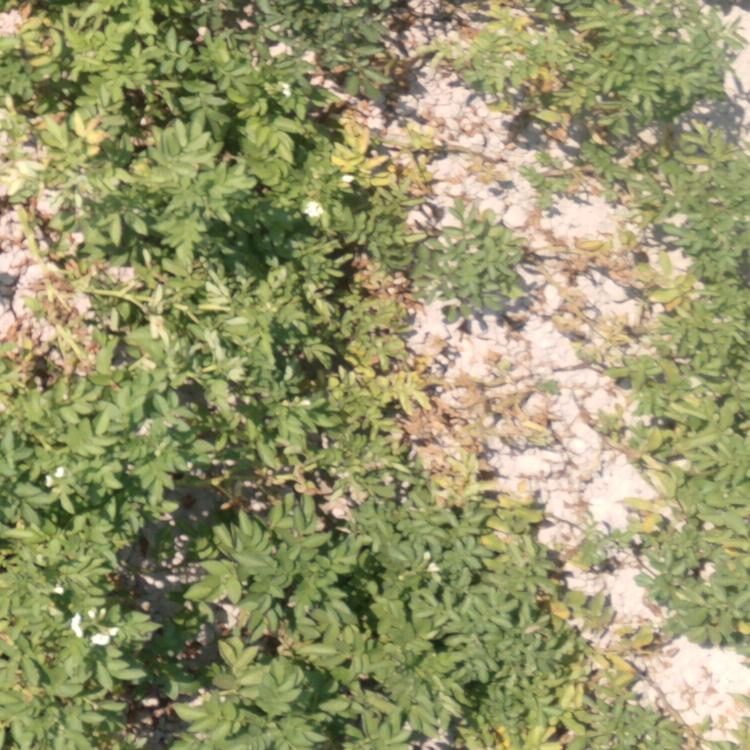healthy: (1, 507, 435, 750), (4, 1, 274, 275), (1, 287, 318, 487)
stressed: (603, 162, 750, 648), (437, 1, 724, 153), (328, 267, 516, 488), (433, 499, 596, 750), (293, 6, 423, 275), (438, 160, 575, 262), (600, 657, 705, 750)
